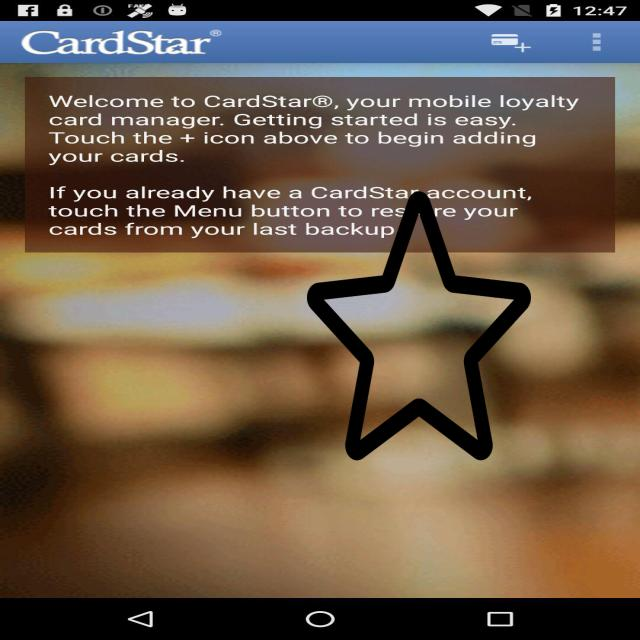forced continuity: (307, 185, 531, 466)
